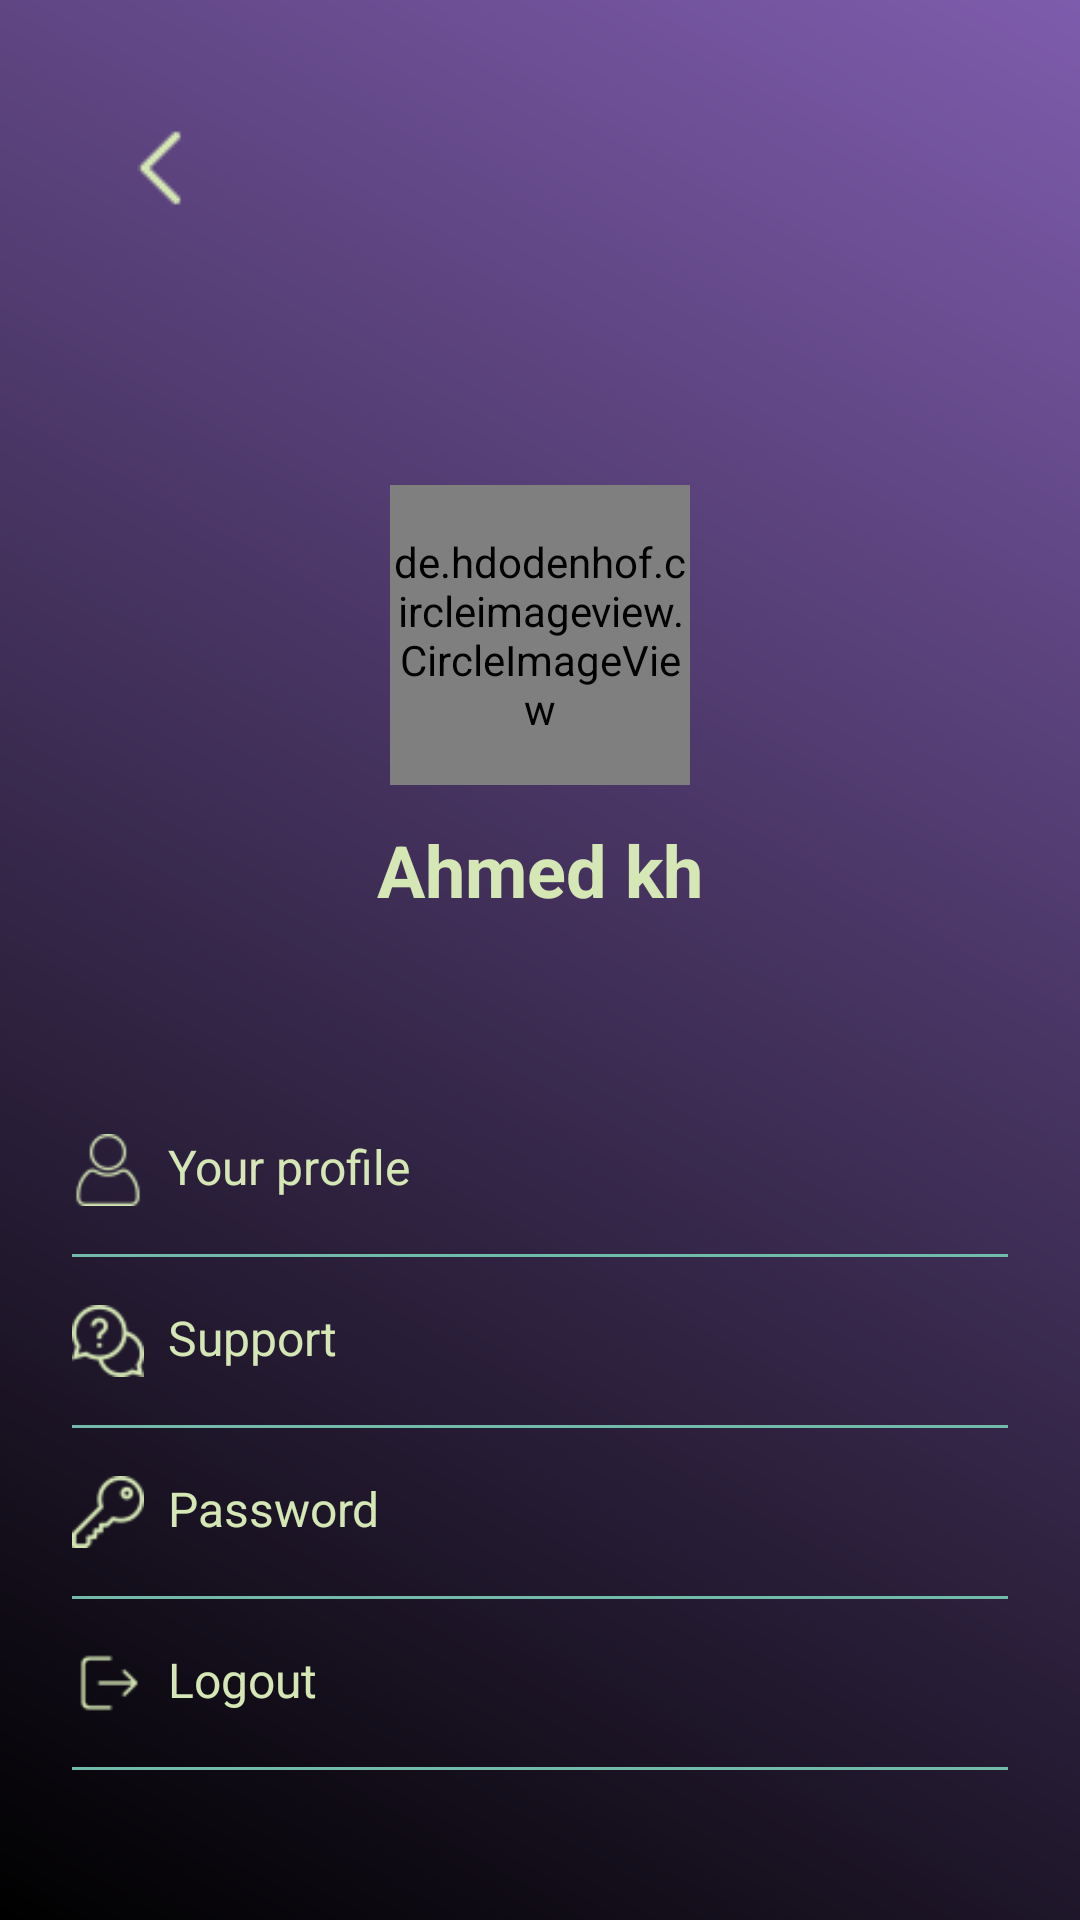

Named icons in this screenshot (1080 × 1920) and their centers, [x,y]:
back: [160,168]
help: [108,1341]
key: [108,1512]
quit: [109,1683]
user: [108,1170]
